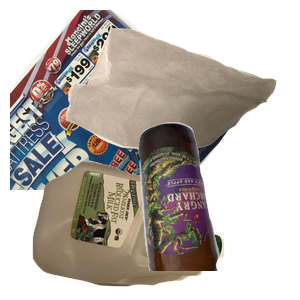glass: (136, 120, 300, 300)
paper: (10, 10, 240, 190)
plastic: (30, 159, 247, 300)
trash: (63, 21, 300, 172)
